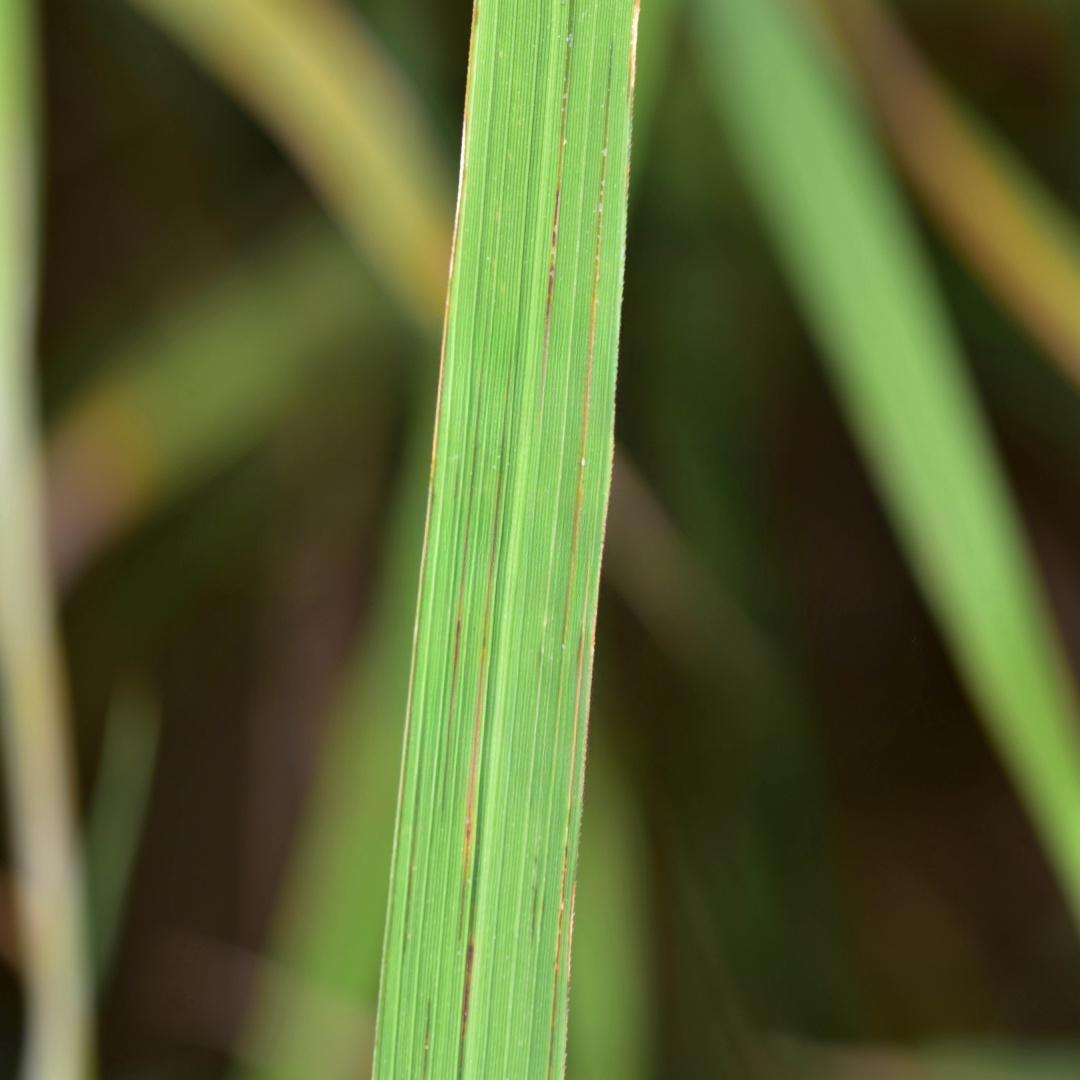BLS: (412, 0, 479, 683), (558, 44, 611, 707), (457, 511, 498, 940), (547, 629, 585, 1079), (541, 0, 574, 380), (458, 756, 483, 1079), (450, 526, 471, 702), (402, 773, 421, 959), (626, 0, 640, 191), (424, 1001, 430, 1079)
